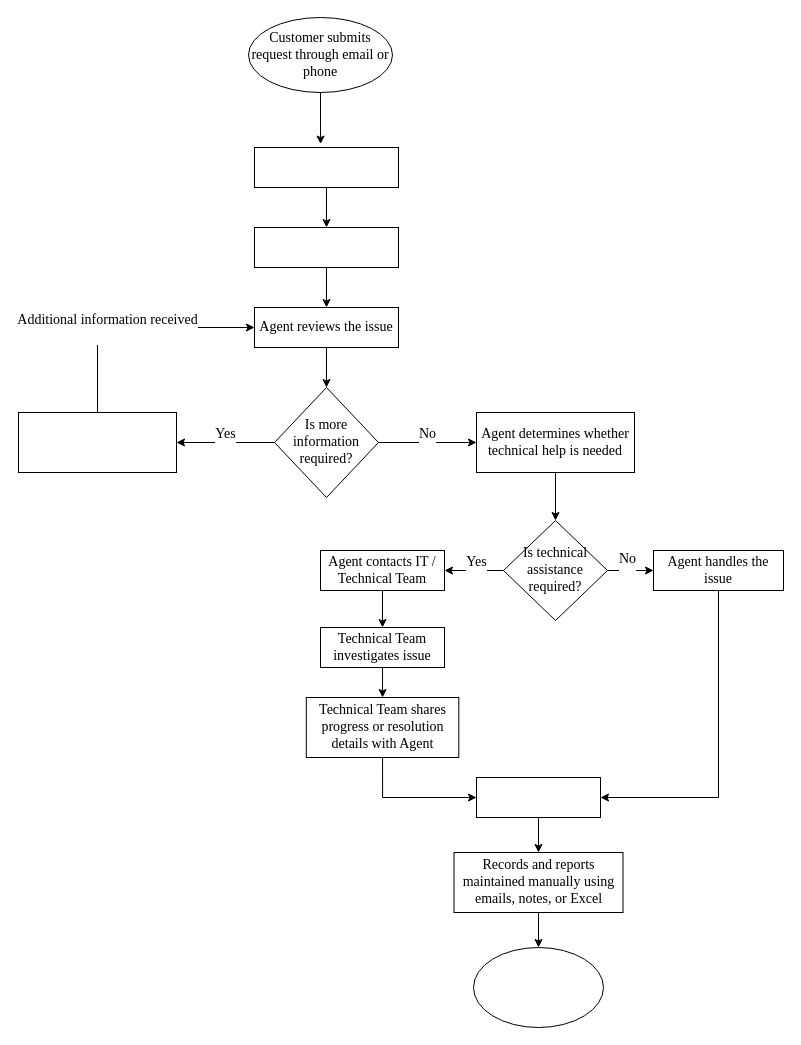
The diagram is 801 pixels wide and 1045 high, and some of its shapes have lost their labels. Each missing label, with the centre of its shape:
"Agent contacts customer for additional information" belongs at [97,442].
"Agent records request details manually" belongs at [326,247].
"Agent updates customer" belongs at [538,797].
"End: Issue resolved and customer informed" belongs at [538,987].
"Support Agent receives request" belongs at [326,167].
